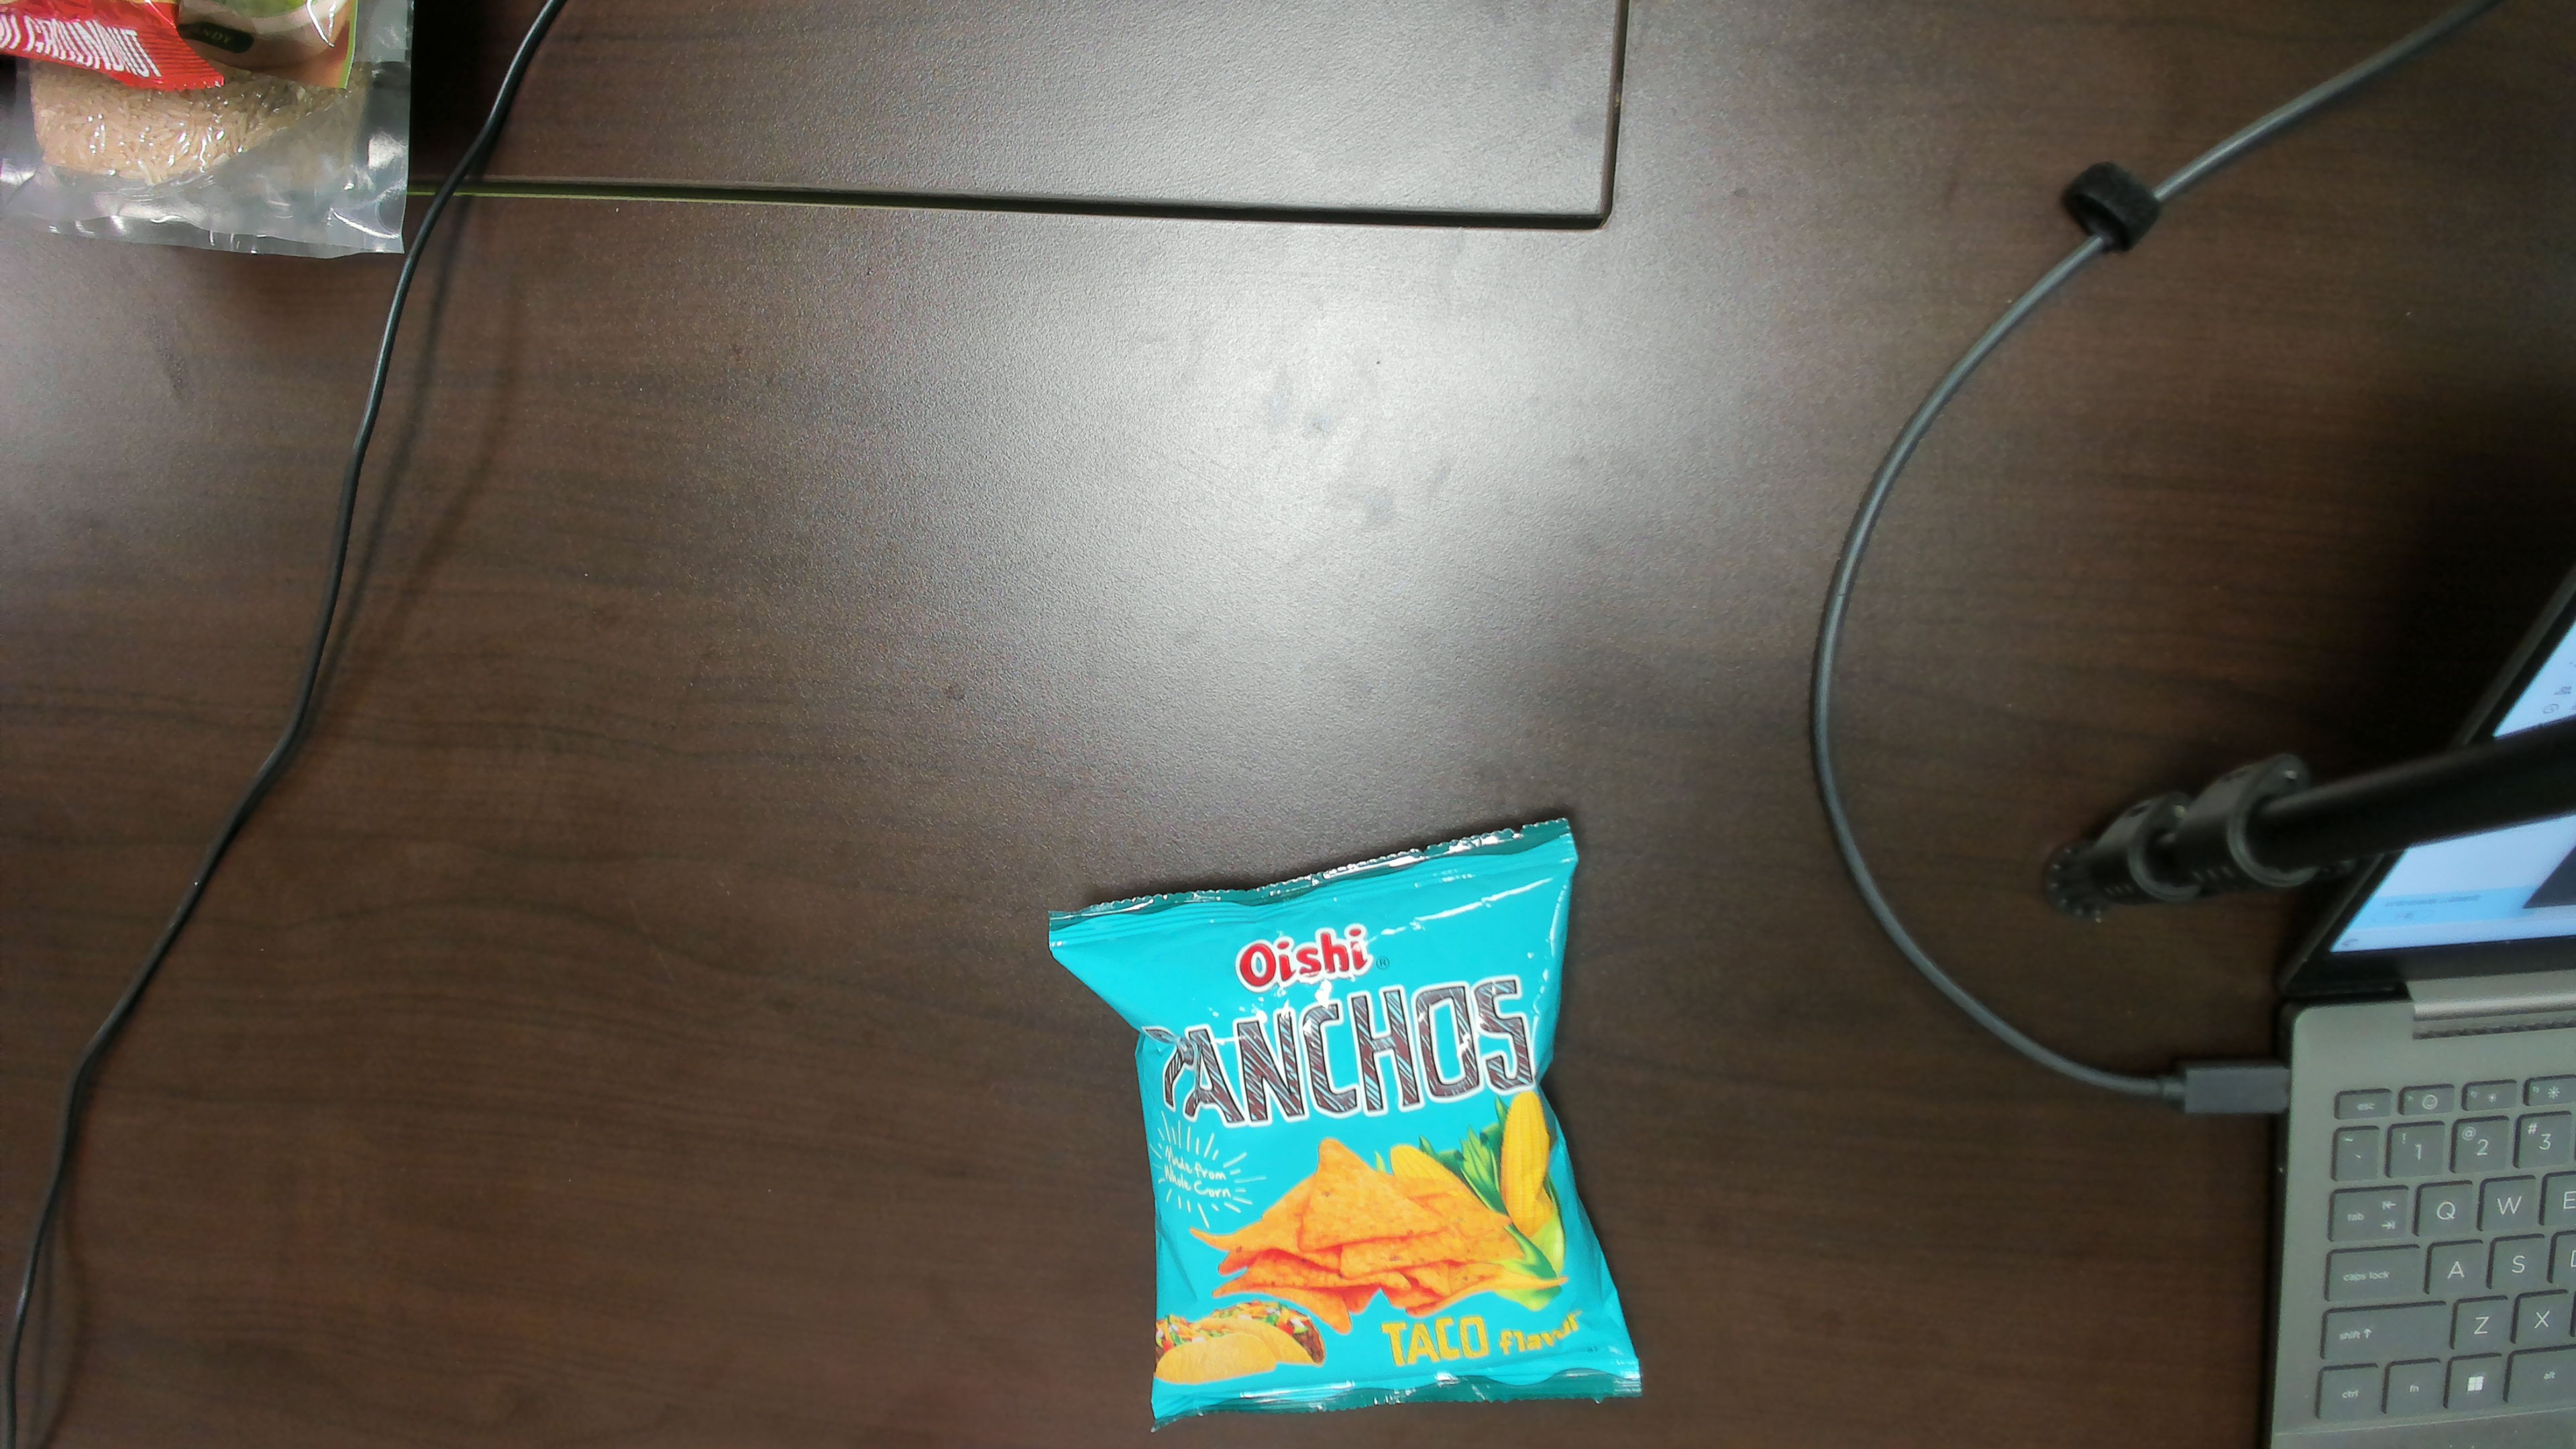PotatochipsKeropok_1-99g_NonHalal_NonHealthy: (1152, 911, 1585, 1392)
